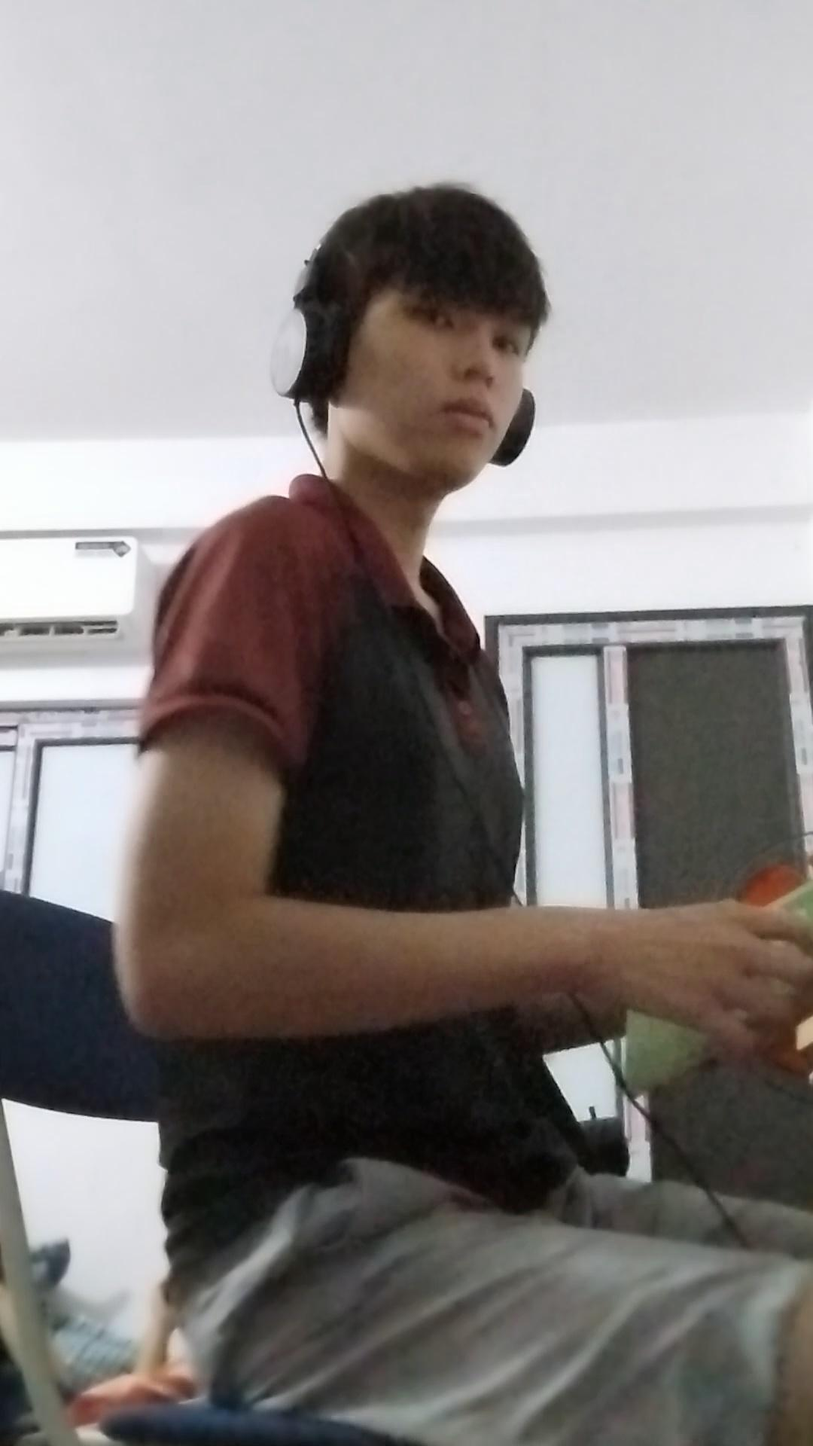GoodPosture: (115, 184, 812, 1445)
